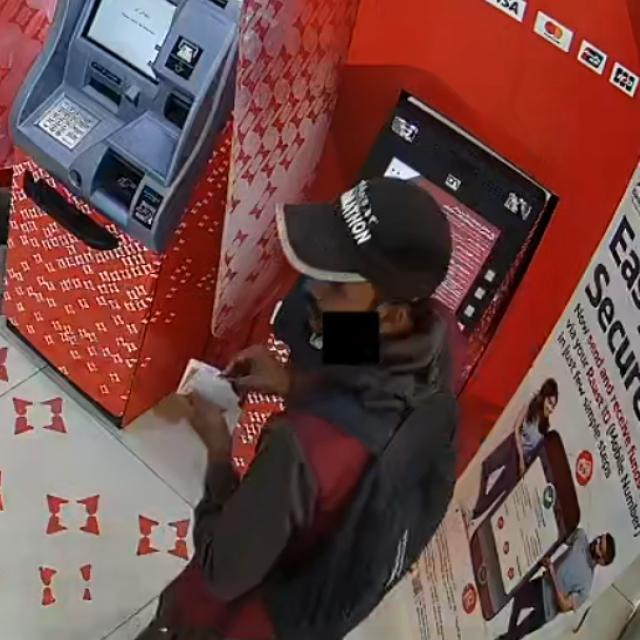note: (170, 350, 248, 430)
